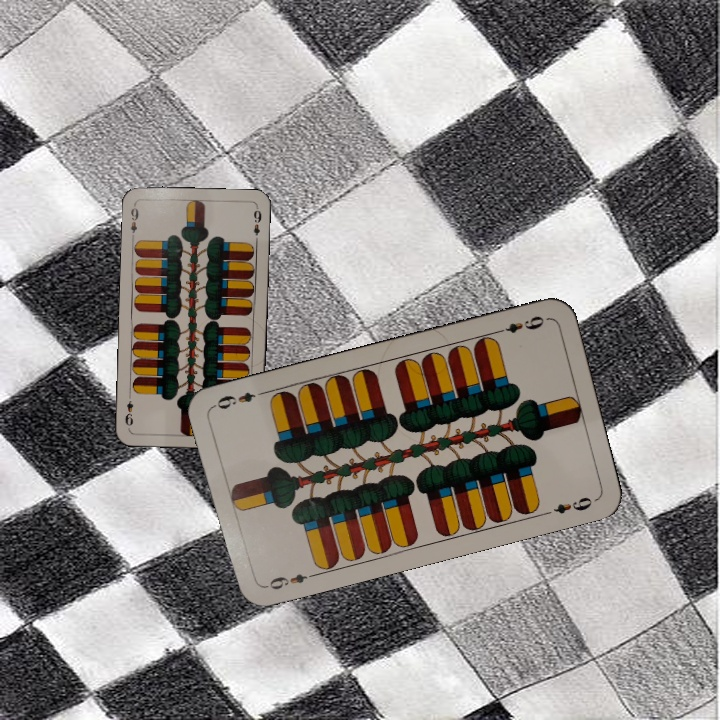E9: (492, 311, 550, 337), (258, 569, 317, 593), (126, 201, 141, 241)
